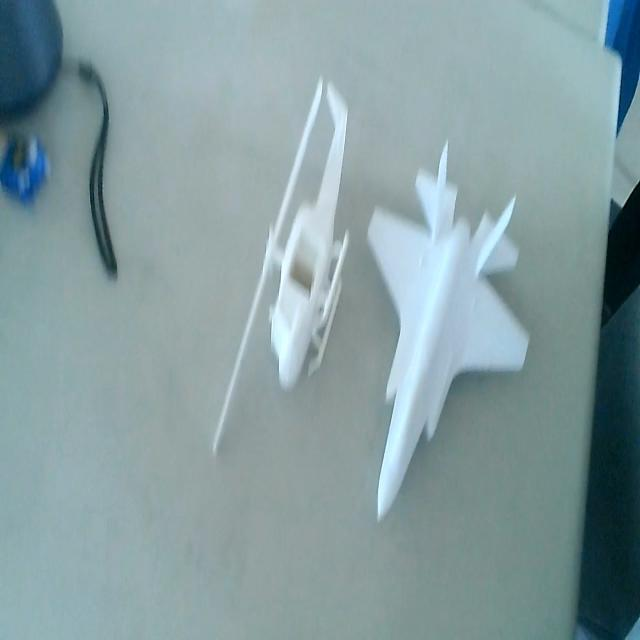Helicopter: (208, 78, 349, 461)
Jet: (360, 139, 530, 516)
